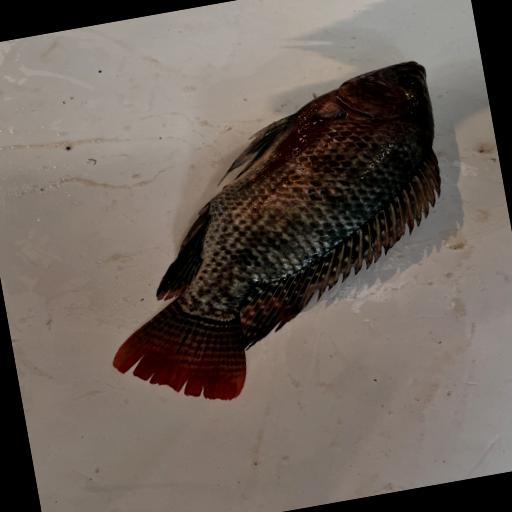Tilapia: (69, 59, 478, 420)
